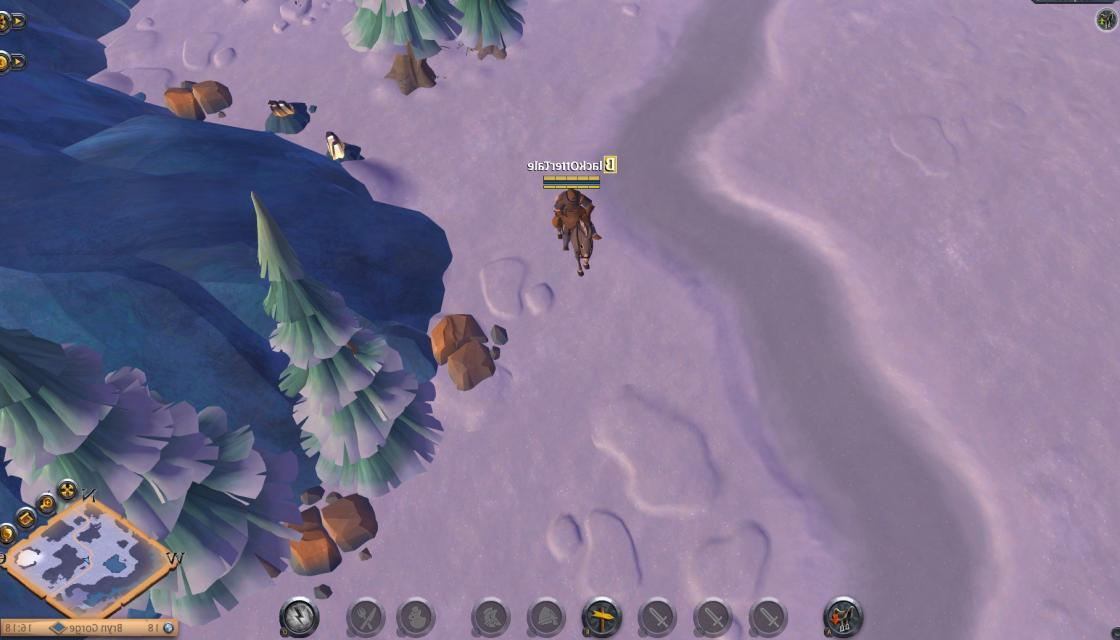copperore: (262, 94, 313, 130), (322, 124, 365, 164)
limestone: (286, 489, 382, 577), (429, 310, 498, 392), (159, 76, 234, 126)
